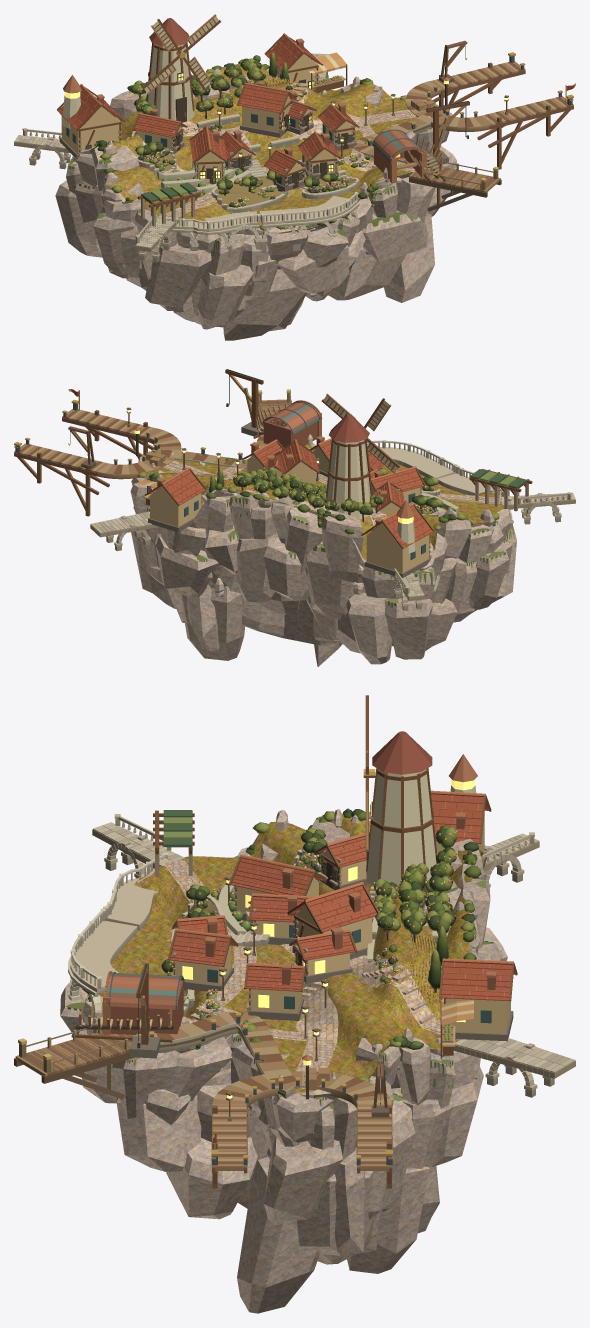
Rendered from flight-town-sunstep.glb.
3 views of the same model, one above another, from view 1: azimuth 30°, elevation 25°; view 2: azimuth 150°, elevation 25°; view 3: azimuth 270°, elevation 25° (orthographic). The views are drawn at different scales.
Visible parts, largest first — view 1: Fractured bedrock and hanging outcrops, Quays and working piers, Continuous hillside terraces, Stonework, arcade and retaining walls, Wind-shaped greenery and crops, Liftwrights’ timber slip, Sunstep • timber windmill, Vale’s counting hall, Stepped lanes and inlaid courts, Orchard lane 3, Exchange and stores, mill-sails (+14 smaller); view 2: Fractured bedrock and hanging outcrops, Quays and working piers, Wind-shaped greenery and crops, Sunstep • timber windmill, Liftwrights’ timber slip, Vale’s counting hall, Stonework, arcade and retaining walls, Continuous hillside terraces, Exchange and stores, Grafting arcade, Orchard lane 3, Stepped lanes and inlaid courts (+9 smaller); view 3: Fractured bedrock and hanging outcrops, Quays and working piers, Continuous hillside terraces, Wind-shaped greenery and crops, Stonework, arcade and retaining walls, Sunstep • timber windmill, Stepped lanes and inlaid courts, Liftwrights’ timber slip, Exchange and stores, Orchard lane 3, Lower quay fruit stores, Orchard lane 1 (+13 smaller).
Boxes of the visible parts, left/top/right/bottom form: Fractured bedrock and hanging outcrops: left=55, top=68, right=456, bottom=340; Quays and working piers: left=14, top=40, right=573, bottom=262; Continuous hillside terraces: left=90, top=61, right=440, bottom=228; Stonework, arcade and retaining walls: left=137, top=78, right=445, bottom=257; Wind-shaped greenery and crops: left=67, top=52, right=423, bottom=266; Liftwrights’ timber slip: left=372, top=101, right=469, bottom=183; Sunstep • timber windmill: left=146, top=18, right=194, bottom=122; Vale’s counting hall: left=57, top=84, right=125, bottom=157; Stepped lanes and inlaid courts: left=127, top=82, right=416, bottom=217; Orchard lane 3: left=237, top=81, right=296, bottom=137; Exchange and stores: left=264, top=33, right=323, bottom=92; mill-sails: left=142, top=14, right=220, bottom=94; Fractured bedrock and hanging outcrops: left=130, top=443, right=516, bottom=666; Quays and working piers: left=14, top=395, right=575, bottom=610; Wind-shaped greenery and crops: left=134, top=454, right=515, bottom=624; Sunstep • timber windmill: left=325, top=414, right=373, bottom=519; Liftwrights’ timber slip: left=225, top=369, right=322, bottom=449; Vale’s counting hall: left=361, top=503, right=434, bottom=577; Stonework, arcade and retaining walls: left=151, top=440, right=513, bottom=528; Continuous hillside terraces: left=144, top=444, right=504, bottom=560; Exchange and stores: left=145, top=467, right=206, bottom=532; Grafting arcade: left=469, top=469, right=532, bottom=511; Orchard lane 3: left=276, top=439, right=319, bottom=486; Stepped lanes and inlaid courts: left=164, top=460, right=501, bottom=525; Fractured bedrock and hanging outcrops: left=60, top=819, right=507, bottom=1313; Quays and working piers: left=14, top=814, right=575, bottom=1188; Continuous hillside terraces: left=99, top=813, right=472, bottom=1092; Wind-shaped greenery and crops: left=65, top=808, right=495, bottom=1131; Stonework, arcade and retaining walls: left=67, top=848, right=438, bottom=1098; Sunstep • timber windmill: left=366, top=731, right=437, bottom=891; Stepped lanes and inlaid courts: left=136, top=860, right=460, bottom=1088; Liftwrights’ timber slip: left=71, top=963, right=184, bottom=1058; Exchange and stores: left=439, top=958, right=517, bottom=1041; Orchard lane 3: left=287, top=882, right=379, bottom=959; Lower quay fruit stores: left=167, top=928, right=238, bottom=991; Orchard lane 1: left=228, top=854, right=326, bottom=920.
Size of the model in its own units: 50.67 by 31.69 by 34.5.
Materials: 35 (3 with a texture image).
